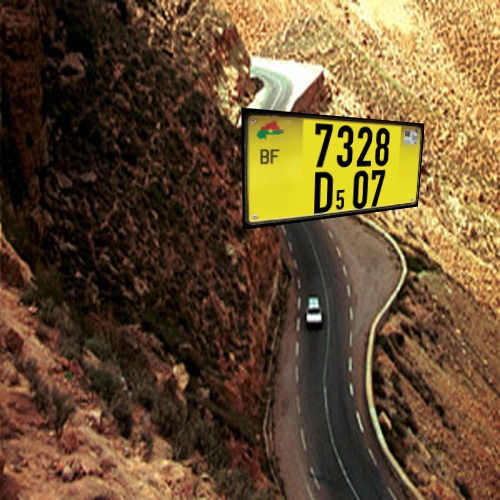plate: (228, 98, 433, 252)
